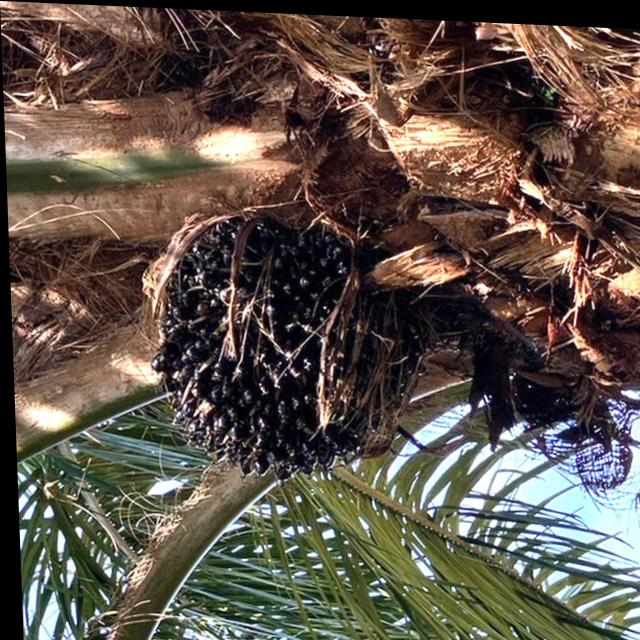unripe: (134, 197, 408, 491)
